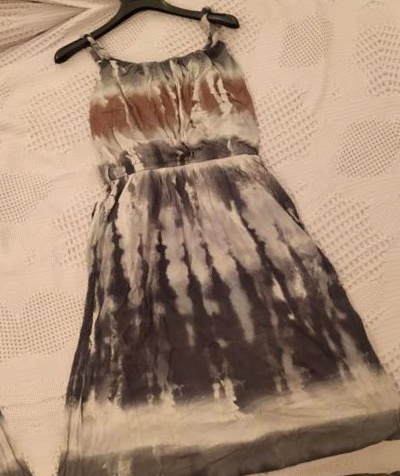Dress: (14, 0, 400, 476), (391, 0, 400, 427), (99, 466, 400, 476), (0, 0, 341, 7), (0, 52, 5, 476)
